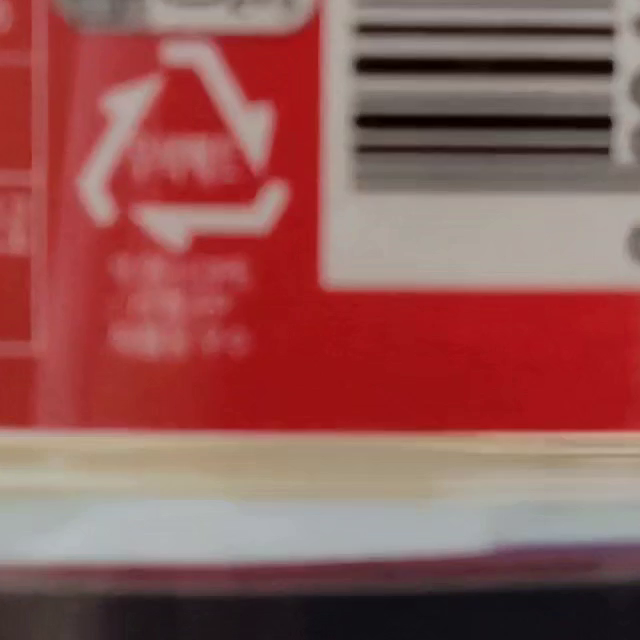ColorlessPet: (75, 43, 291, 251)
